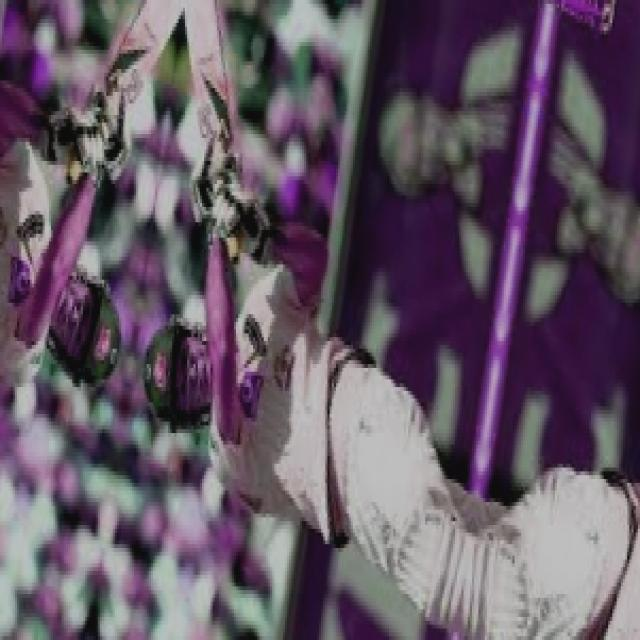toe: (183, 0, 217, 11)
